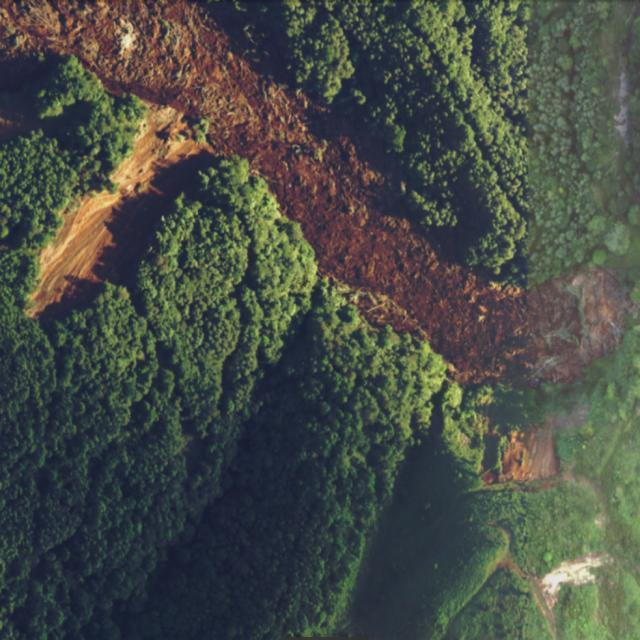landslide: (0, 1, 638, 490), (27, 103, 216, 318), (359, 494, 613, 637)
